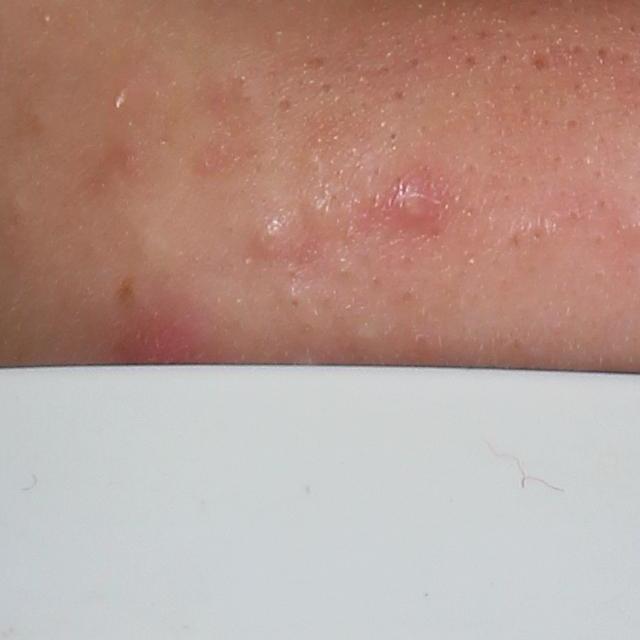comedo: (247, 217, 290, 261), (302, 190, 344, 232), (272, 94, 296, 119), (592, 44, 613, 65), (529, 48, 547, 72), (387, 125, 403, 146), (287, 295, 303, 315)
pustule: (395, 188, 442, 231)
